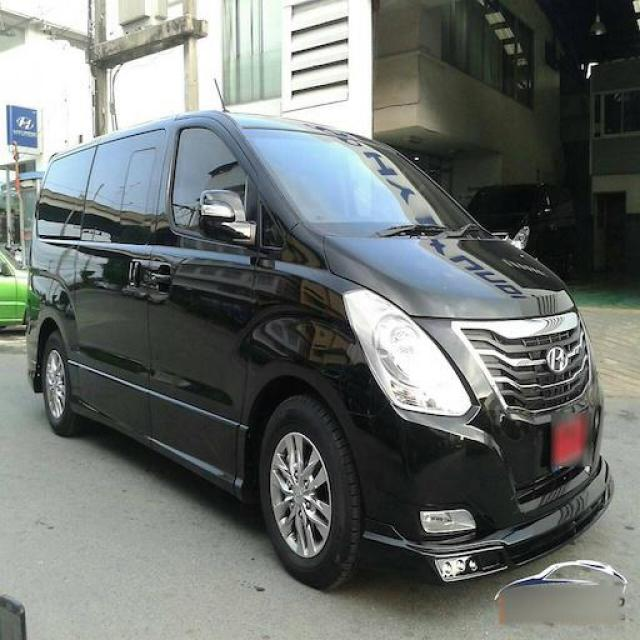back_right_door: (76, 127, 165, 435)
front_bumper: (333, 308, 617, 586)
front_glass: (242, 129, 501, 241)
front_right_door: (148, 117, 260, 494)
front_right_light: (341, 288, 472, 417)
hood: (323, 235, 578, 320)
right_mirror: (200, 189, 259, 245)
wheel: (260, 394, 365, 592), (43, 332, 76, 435)
